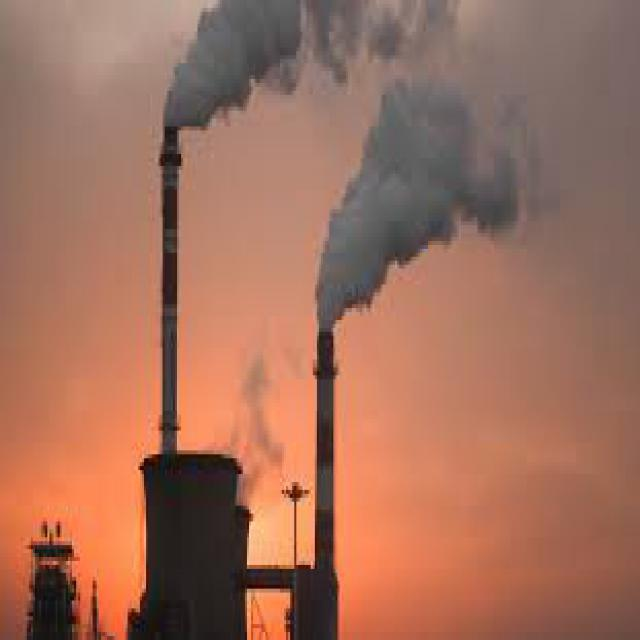smoke: (282, 71, 558, 320), (140, 4, 323, 126)
